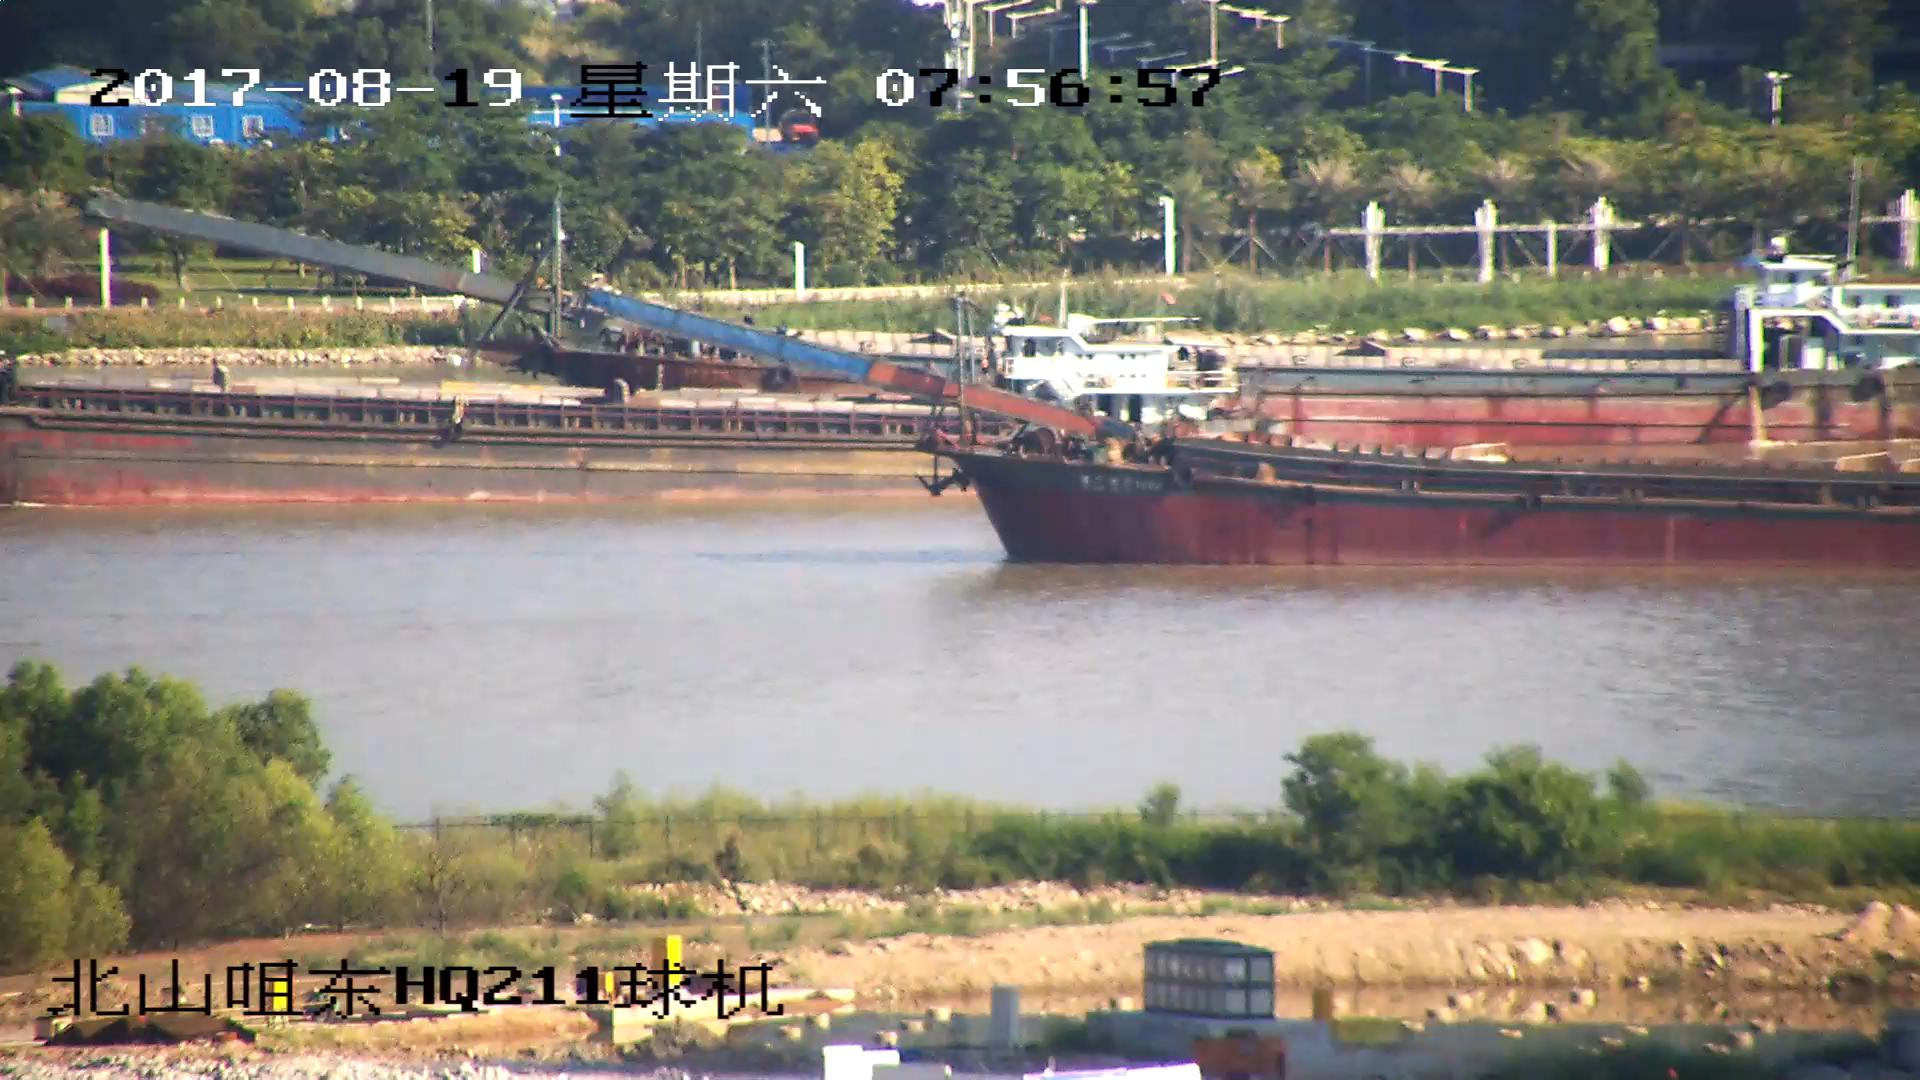bulk cargo carrier: (80, 193, 1920, 396), (590, 298, 1920, 572), (1, 354, 927, 509)
